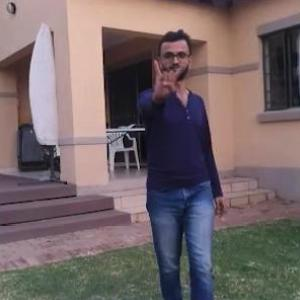takeoff-hand: (148, 50, 188, 103)
